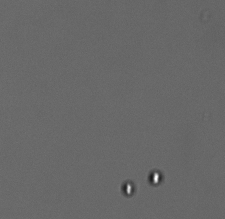Living Cell: (146, 167, 164, 188), (120, 177, 135, 198)
